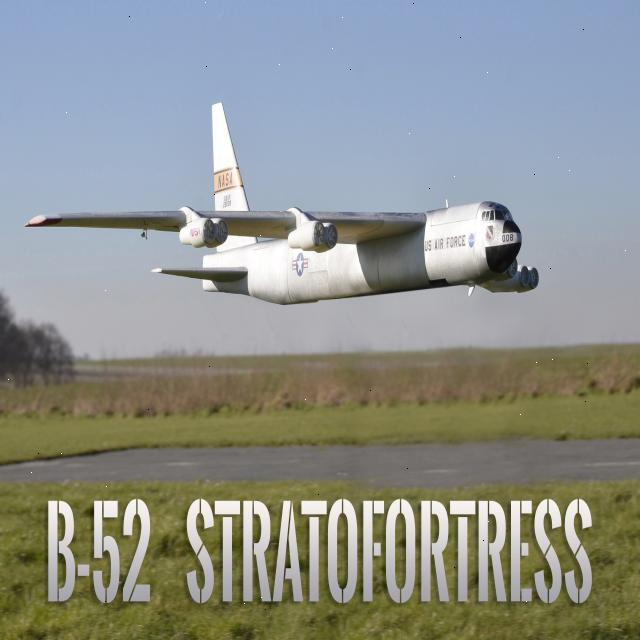B52: (11, 82, 573, 364)
